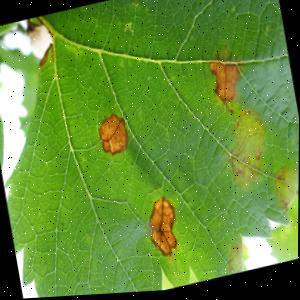Folha: (0, 0, 300, 300)
Fungo: (220, 98, 299, 224), (220, 105, 274, 197), (204, 44, 247, 120), (142, 196, 182, 262), (95, 110, 130, 158), (23, 13, 55, 62), (269, 162, 299, 213)
